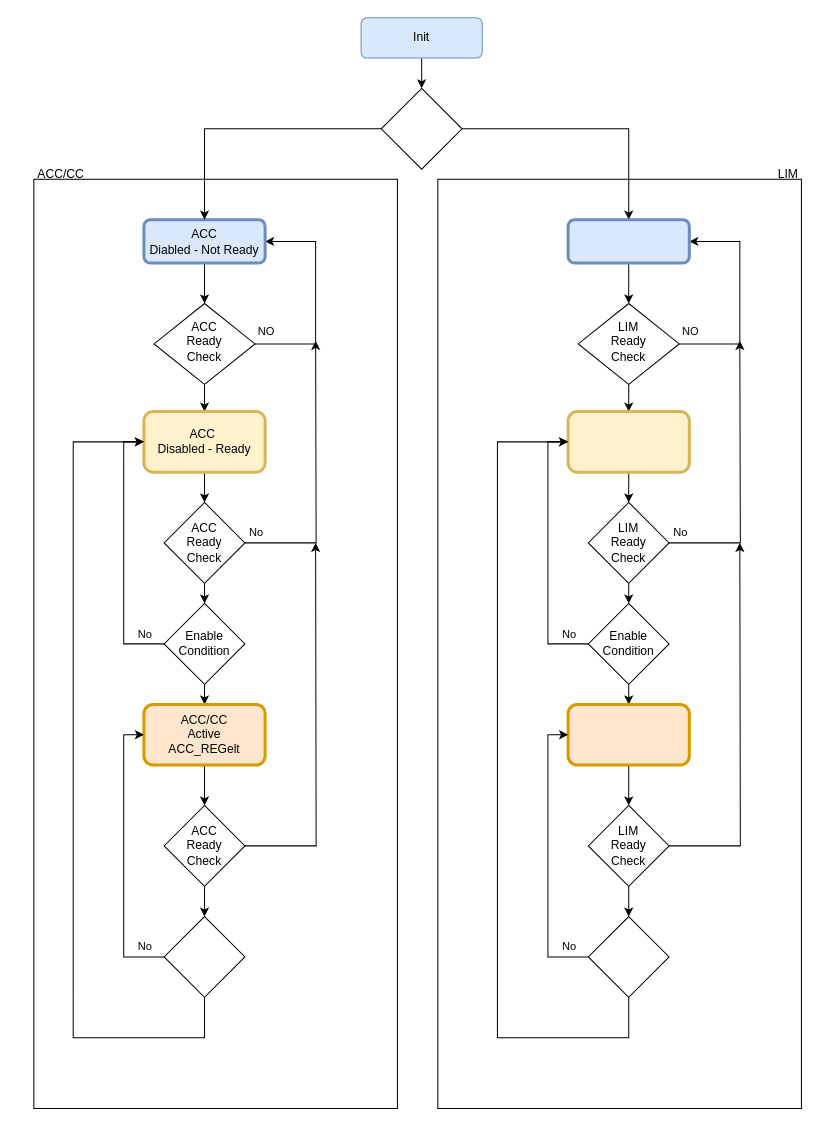
The diagram is 835 pixels wide and 1126 high, and some of its shapes have lost their labels. Each missing label, with the box of its shape:
ACC Disable condition: (163, 916, 245, 997)
ACC/CC OR LIM: (380, 87, 462, 169)
LIM Active LIM_REGelt: (566, 702, 690, 766)
LIM Diabled - Not Ready: (566, 218, 690, 264)
LIM Disable condition: (587, 916, 669, 997)
LIM Disabled - Ready: (566, 410, 690, 473)
